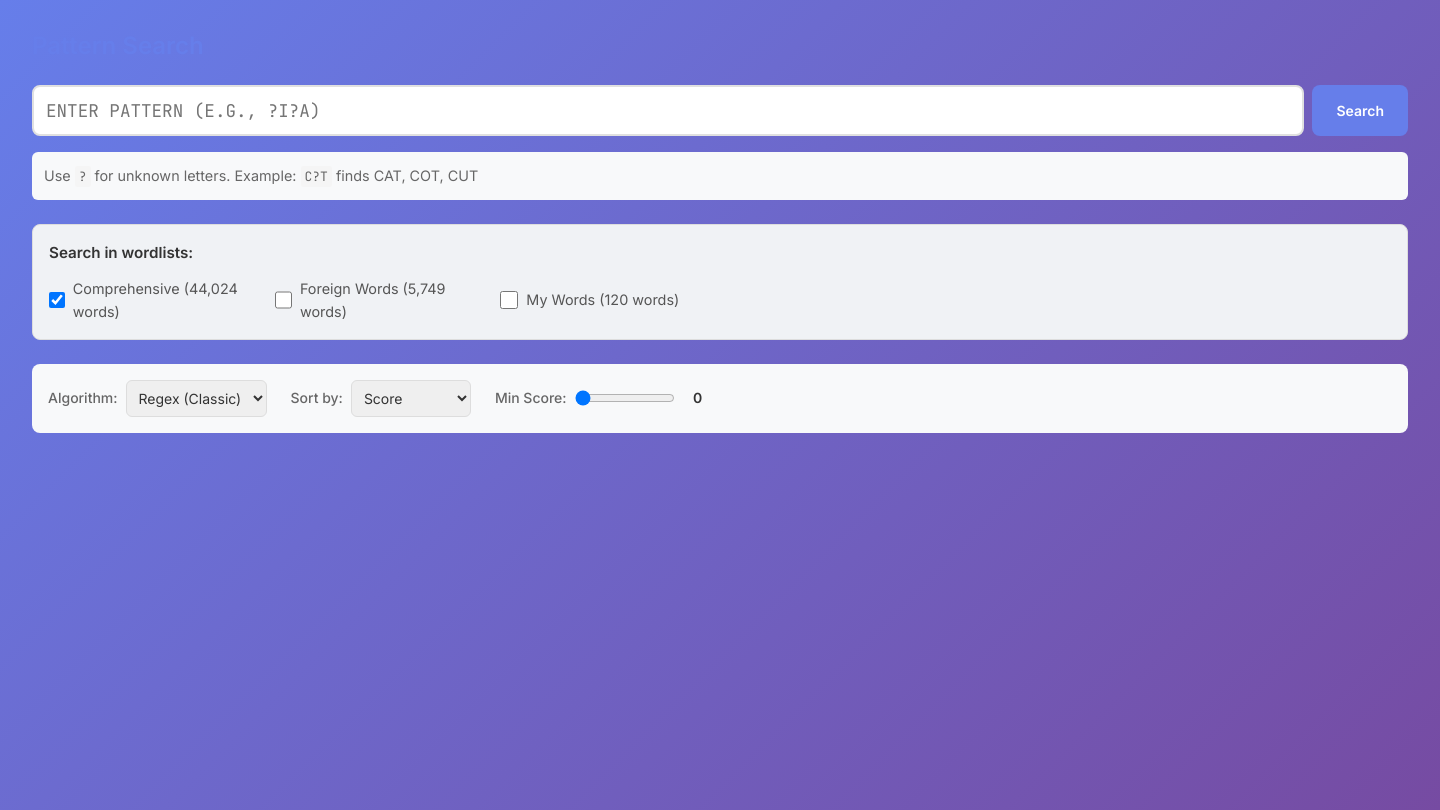
Test case: PatternMatcher SSE completion (real hook) › does not publish the previous payload while the new search is still running
This screenshot has width=1440, height=810.
Type "C?T" into the field with placeholder "Enter pattern (e.g., ?I?A)" at x=668, y=110, box top-left (32, 85), bottom-right (1304, 136)
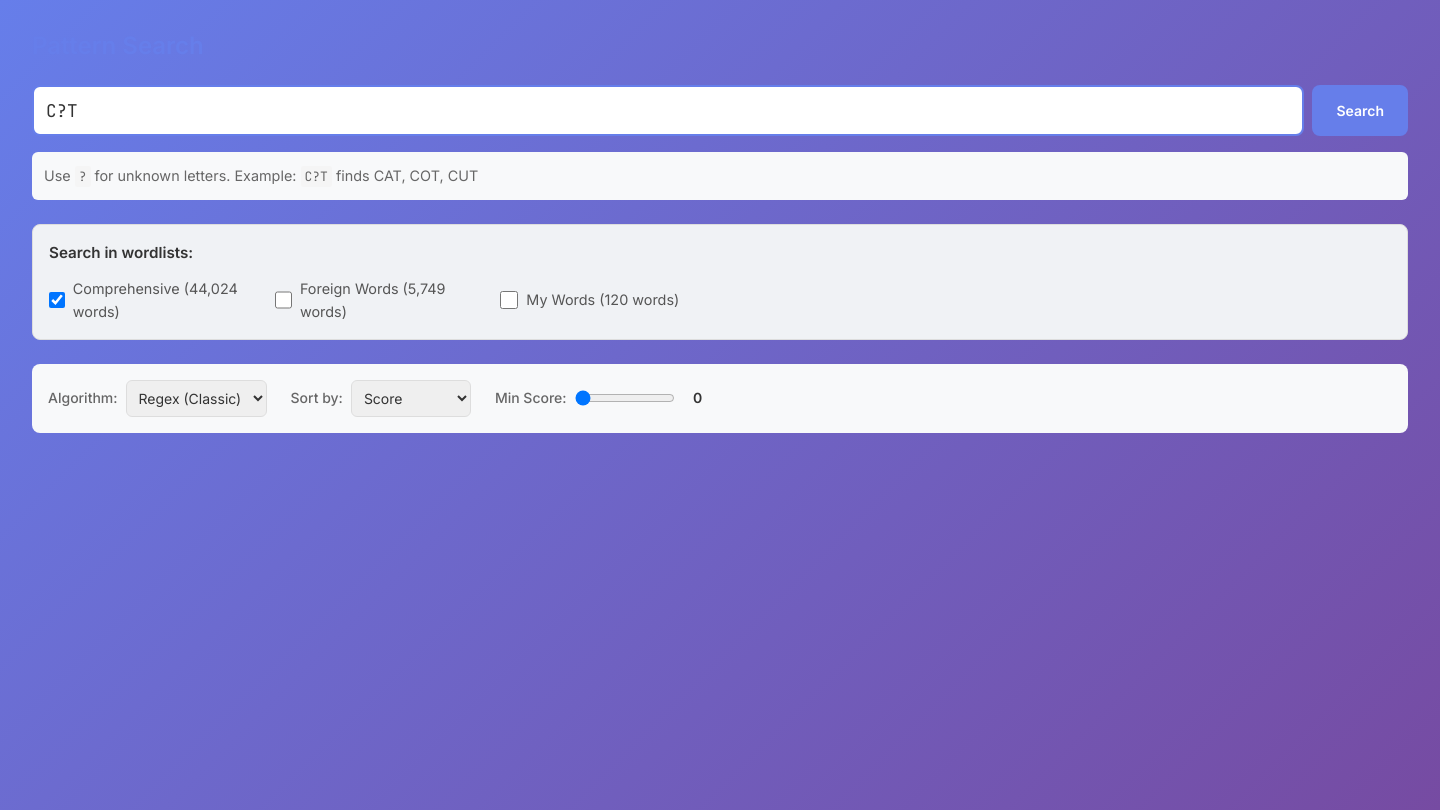
Click the button "Search" at x=1360, y=110, box top-left (1312, 85), bottom-right (1408, 136)
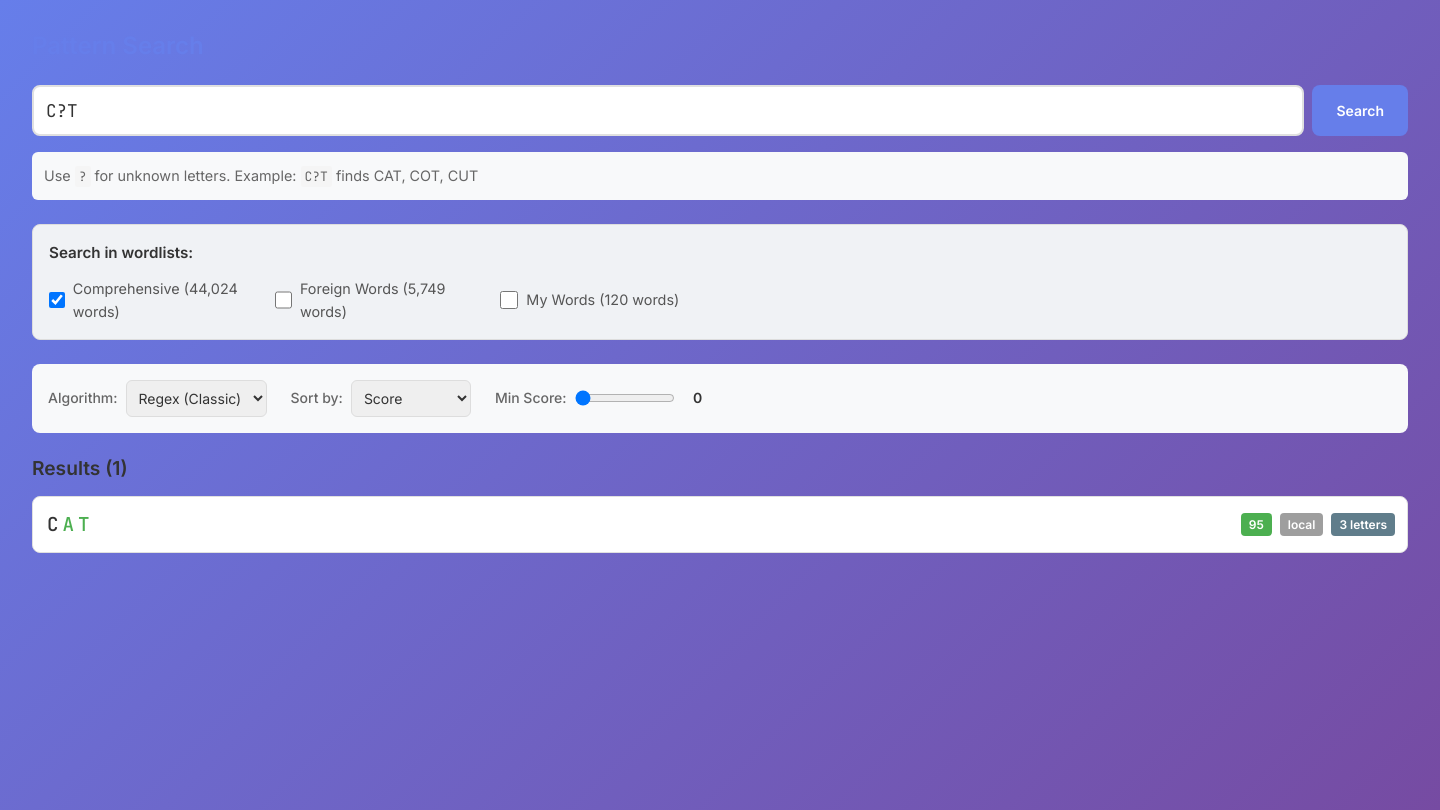
Expected: the heading "Results (1)" is shown, top-left (32, 456), bottom-right (128, 480)
Replace the text in the field with placeholder "Enter pattern (e.g., ?I?A)" with "?I?A" at x=668, y=110, box top-left (32, 85), bottom-right (1304, 136)
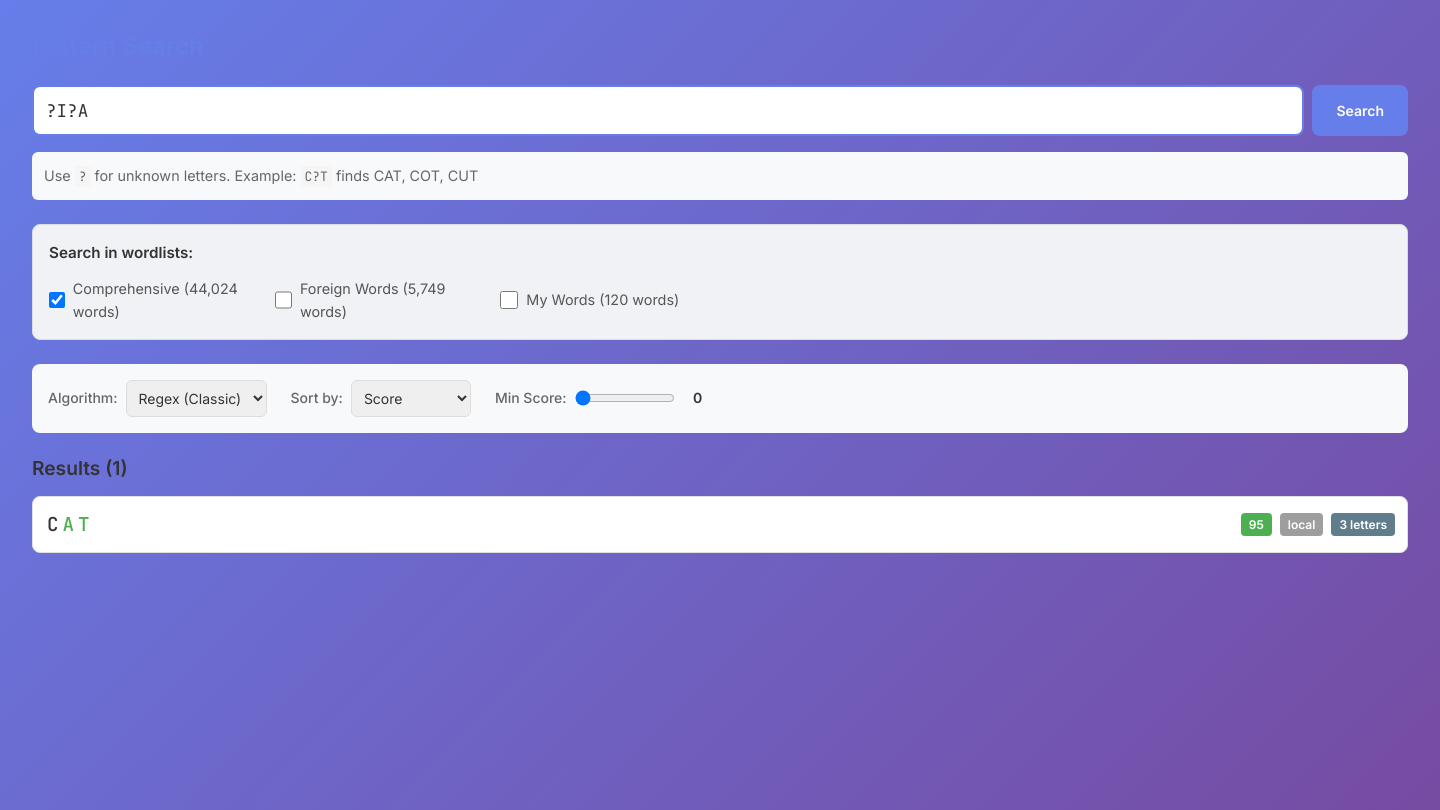
Click the button "Search" at x=1360, y=110, box top-left (1312, 85), bottom-right (1408, 136)
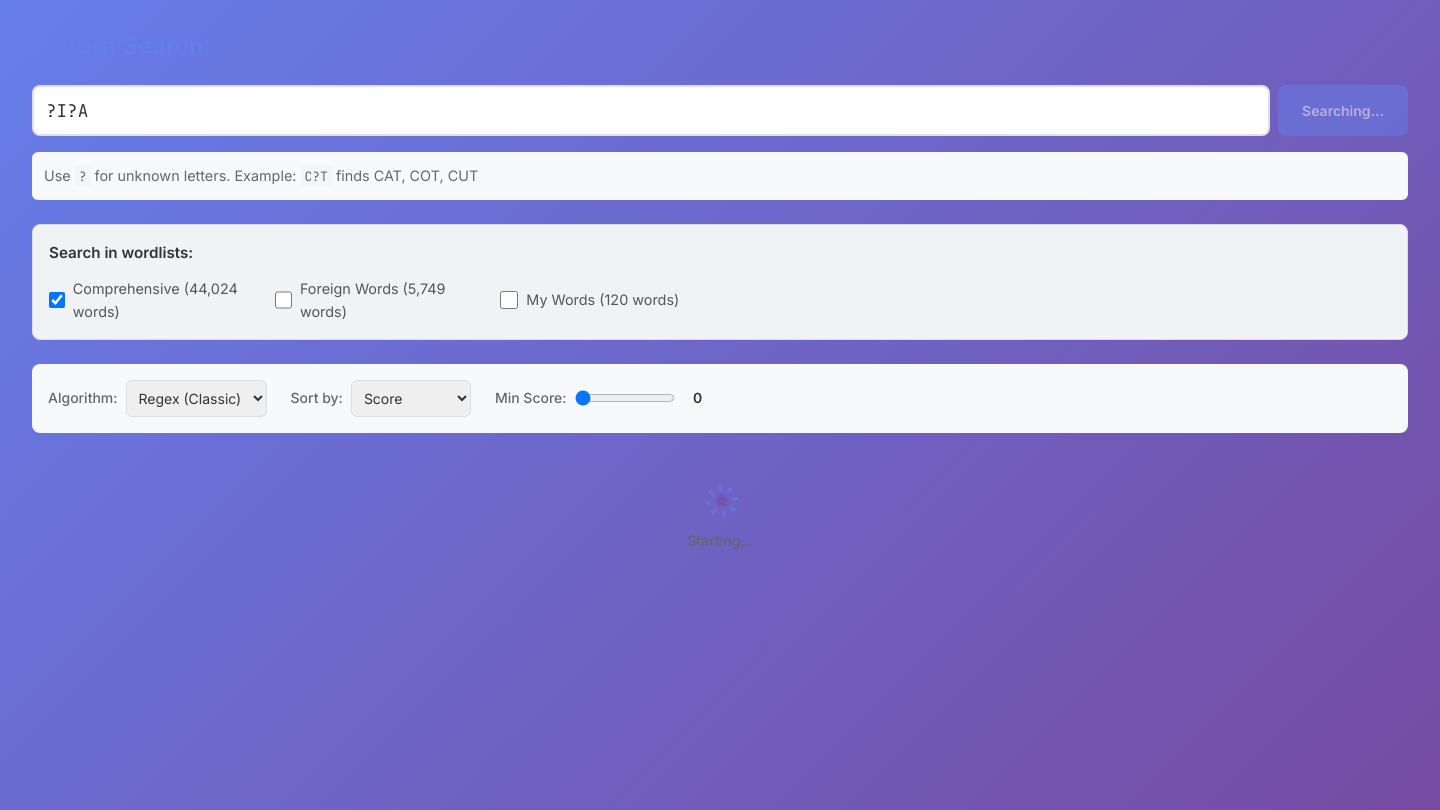
Expected: the heading "Results (" is gone
Expected: the button "Searching..." is disabled, top-left (1278, 85), bottom-right (1408, 136)
